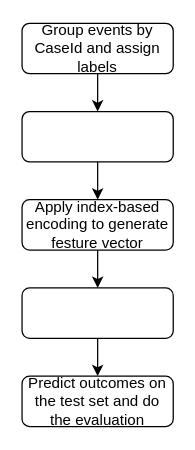
This 195x450 diagram has some shape labels left out. Here are the shapes that lost their labels. From the top down, the centre of each, then its label:
the point at 97,136: Filter cases by prefix lengths 3 and 6
the point at 97,312: Train a Random Forest Classifier
